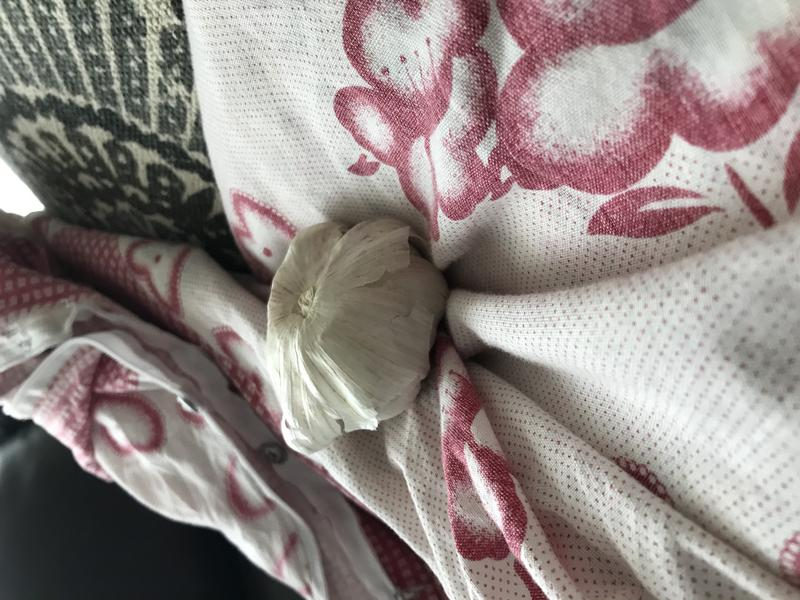garlic: (249, 210, 456, 457)
